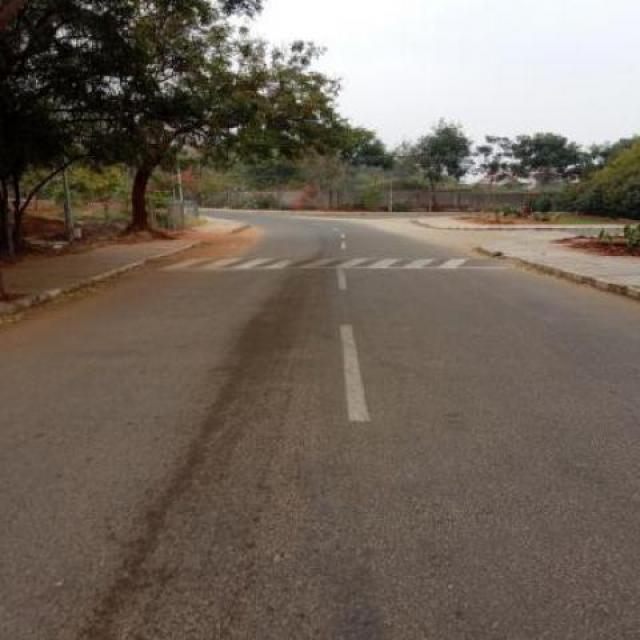Speed Bump: (148, 254, 522, 268)
